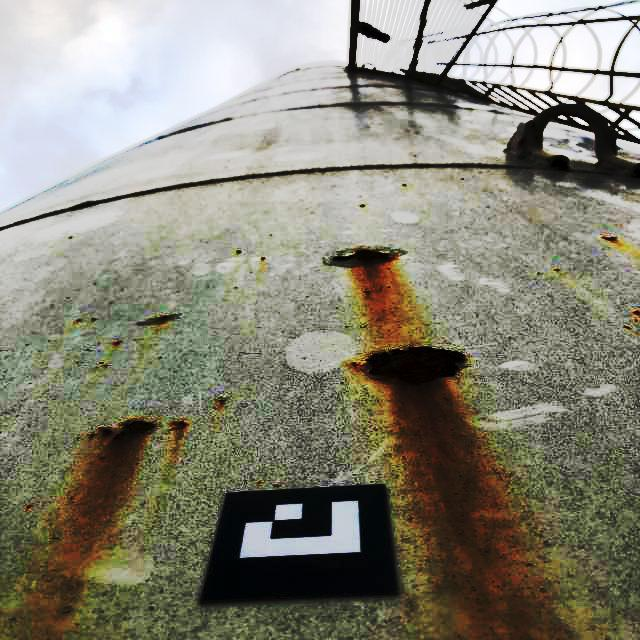Corrosion: (351, 345, 467, 389), (530, 109, 596, 145), (321, 246, 406, 268), (110, 420, 156, 445), (142, 314, 177, 323), (169, 420, 187, 431), (98, 426, 114, 437), (519, 136, 527, 148), (603, 236, 617, 241), (605, 133, 610, 144), (622, 324, 630, 330), (89, 433, 97, 438), (633, 310, 640, 315), (363, 290, 371, 294), (218, 399, 226, 403), (115, 342, 121, 344), (100, 457, 105, 459), (27, 505, 30, 508)
